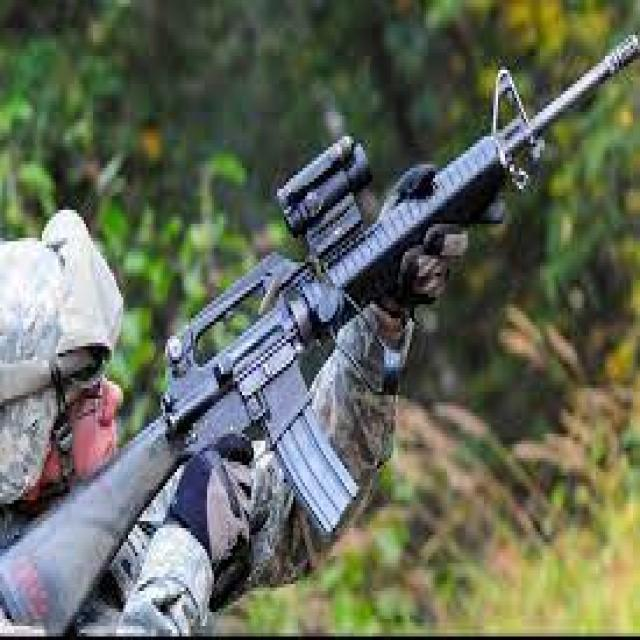m16: (4, 10, 640, 619)
